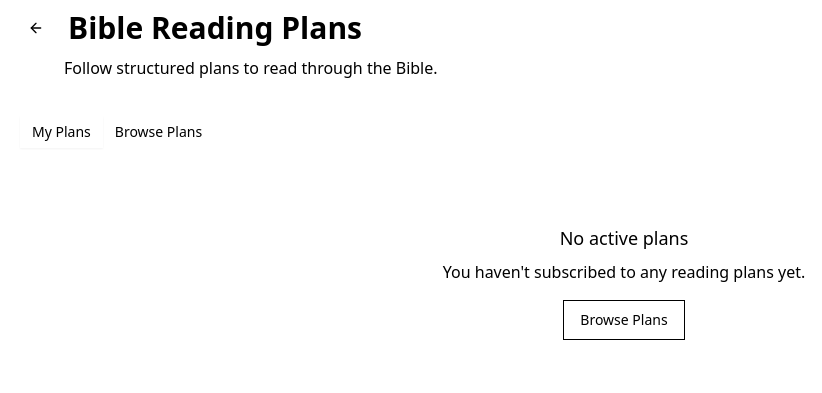
Test: ReadingPlansPage › renders available plans
Click Browse Plans tab
Click the tab "Browse Plans".
click(158, 132)  # box [103, 116, 214, 148]
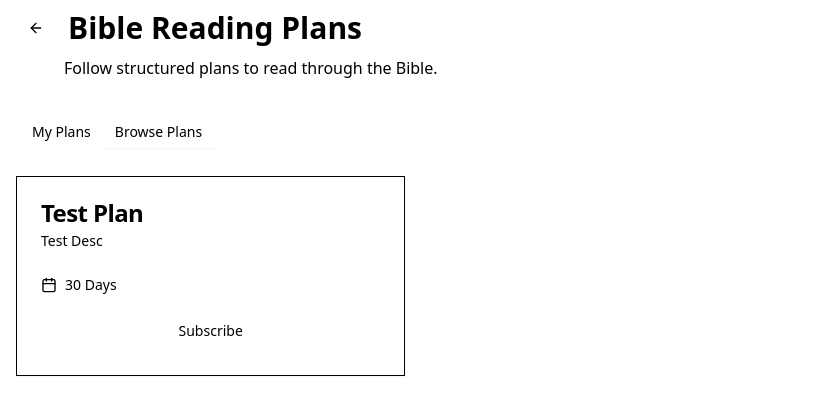
Check: the text "Test Plan" is shown, box [41, 196, 143, 229]
Check: the text "Test Desc" is shown, box [41, 231, 103, 250]
Check: the button "Subscribe" is shown, box [41, 311, 380, 351]
